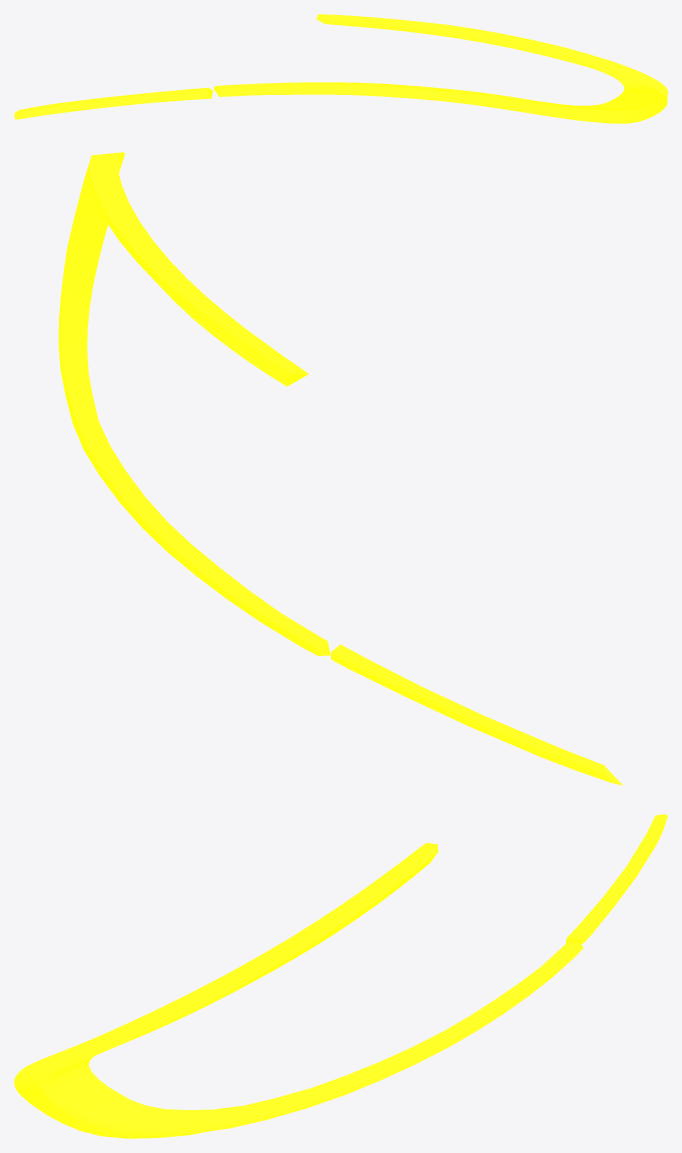
File: atonlight.fbx
The picture shows the model from 3 angles, top to bottom: view 1: azimuth 30°, elevation 25°; view 2: azimuth 150°, elevation 25°; view 3: azimuth 270°, elevation 25°; orthographic projection. The views are drawn at different scales.
Visible parts, largest first — view 1: alwaysOn; view 2: alwaysOn; view 3: alwaysOn.
Boxes of the visible parts, bbox=[...] form: alwaysOn: bbox=[14, 14, 667, 123]; alwaysOn: bbox=[58, 152, 622, 785]; alwaysOn: bbox=[14, 814, 667, 1138].
Size of the model in its own units: 57.83 by 11.84 by 44.44.
